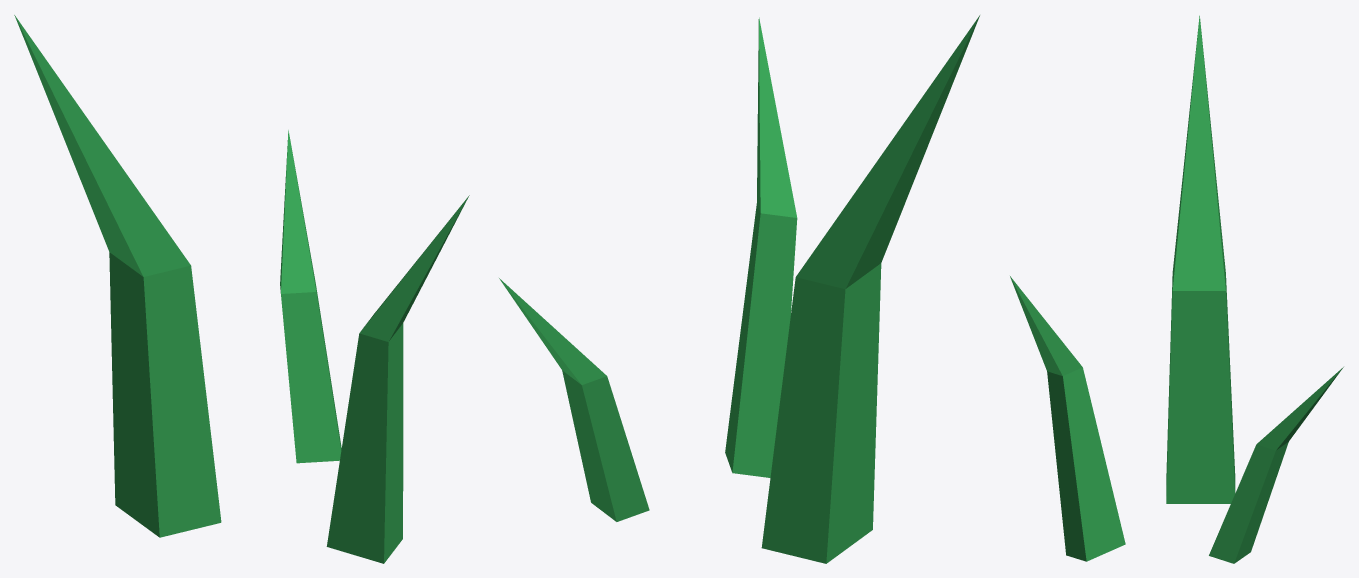
Rendered from cao02.FBX.
3 views of the same model, side by side, from view 1: azimuth 30°, elevation 25°; view 2: azimuth 150°, elevation 25°; view 3: azimuth 270°, elevation 25° (orthographic). The views are drawn at different scales.
Parts seen in each view (by area): view 1: cao02; view 2: cao02; view 3: cao02.
Part boxes in pixels (<box>): cao02: <box>14,15,469,563</box>; cao02: <box>499,15,979,563</box>; cao02: <box>1010,15,1343,563</box>.
Bounding box in the file's own units: 20.58 × 29.79 × 20.87.
